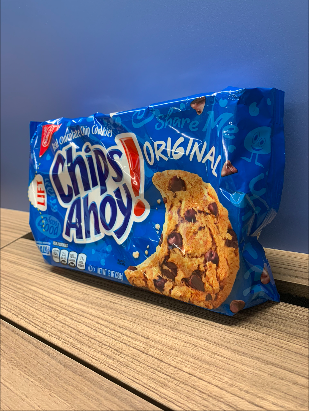Cookies_300-399g: (43, 130, 238, 283)
